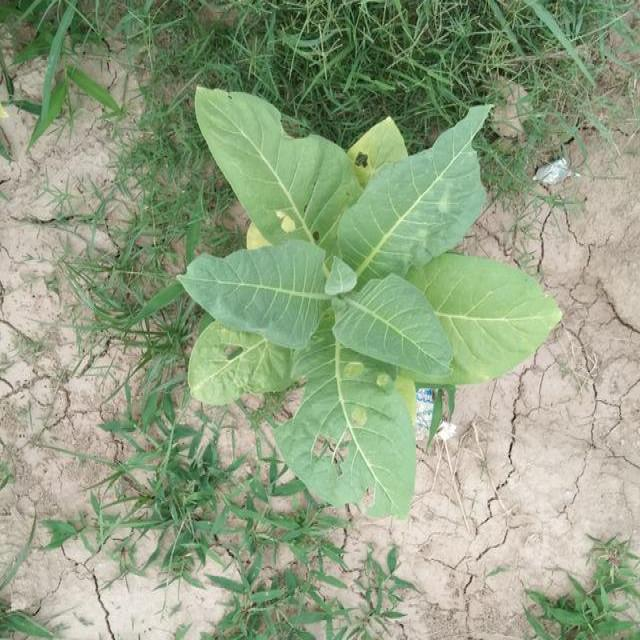crop: (177, 60, 568, 523)
